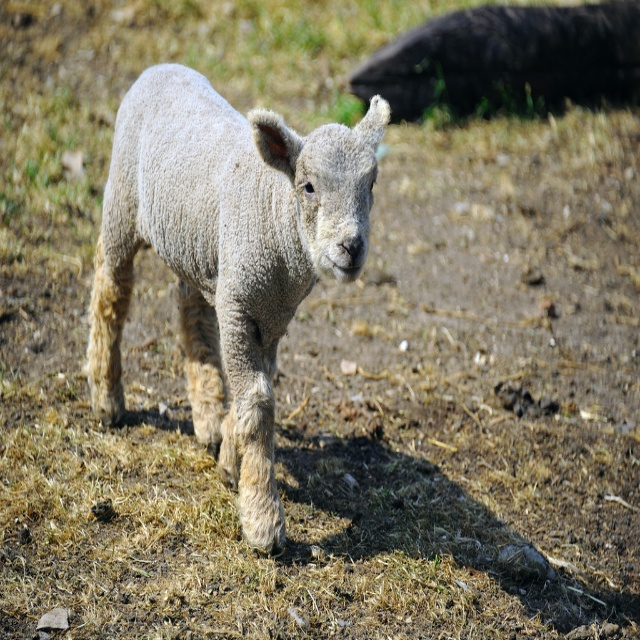Sheep: (73, 55, 399, 541)
